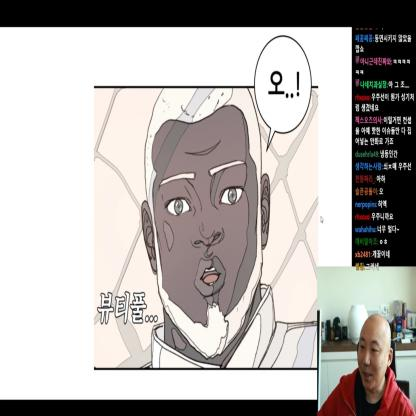streamer: (317, 314, 416, 416)
